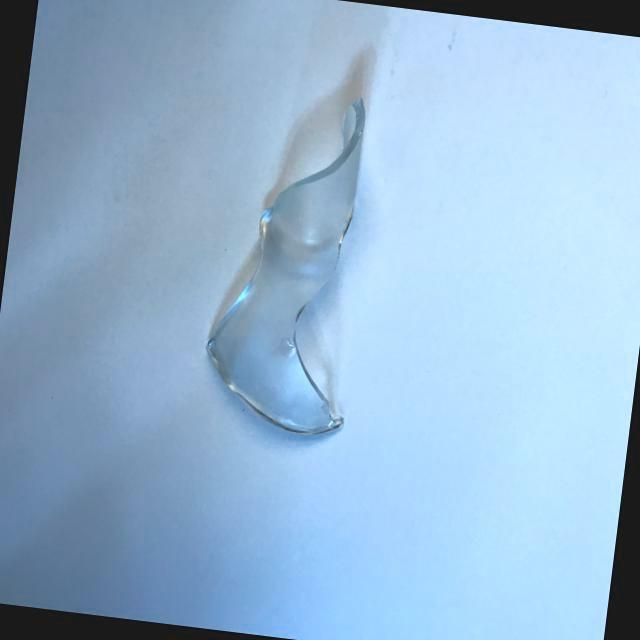glass: (168, 64, 407, 455)
